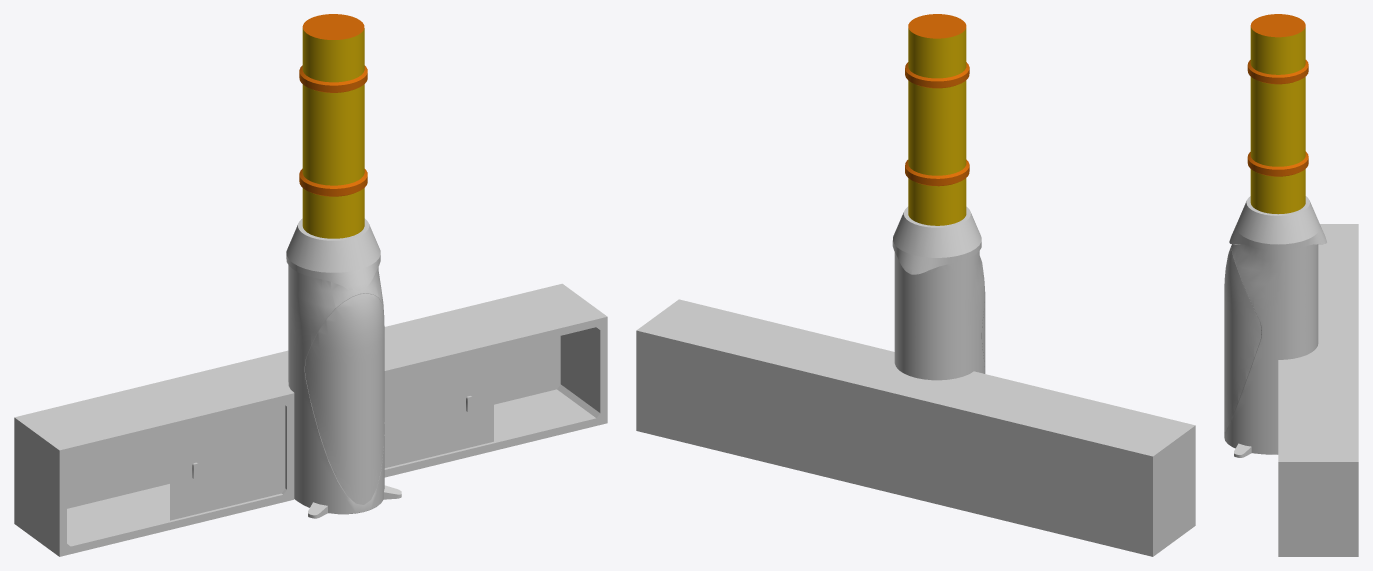
The model's file is PickUp.fbx.
The picture shows the model from 3 angles, left to right: view 1: azimuth 30°, elevation 25°; view 2: azimuth 150°, elevation 25°; view 3: azimuth 270°, elevation 25°; orthographic projection. The views are drawn at different scales.
Parts seen in each view (by area): view 1: Base2.001, GlassDoors.001, Tube.001, Glass.001, Base.002, Top.001; view 2: Base2.001, Tube.001, Base.002, Top.001; view 3: Base2.001, Base.002, Tube.001, Glass.001, Top.001, Feet.002.
Part boxes in pixels (<box>): Base2.001: <box>14,283,607,556</box>; GlassDoors.001: <box>170,352,493,520</box>; Tube.001: <box>299,14,367,238</box>; Glass.001: <box>305,293,384,504</box>; Base.002: <box>288,265,384,514</box>; Top.001: <box>286,218,380,290</box>; Base2.001: <box>636,299,1195,556</box>; Tube.001: <box>905,14,969,225</box>; Base.002: <box>894,251,984,380</box>; Top.001: <box>892,206,981,274</box>; Base2.001: <box>1278,224,1358,556</box>; Base.002: <box>1224,244,1318,454</box>; Tube.001: <box>1247,14,1308,214</box>; Glass.001: <box>1224,246,1261,431</box>; Top.001: <box>1229,196,1326,249</box>; Feet.002: <box>1234,443,1251,457</box>.
Size of the model in its own units: 10.07 by 8.13 by 2.4.
